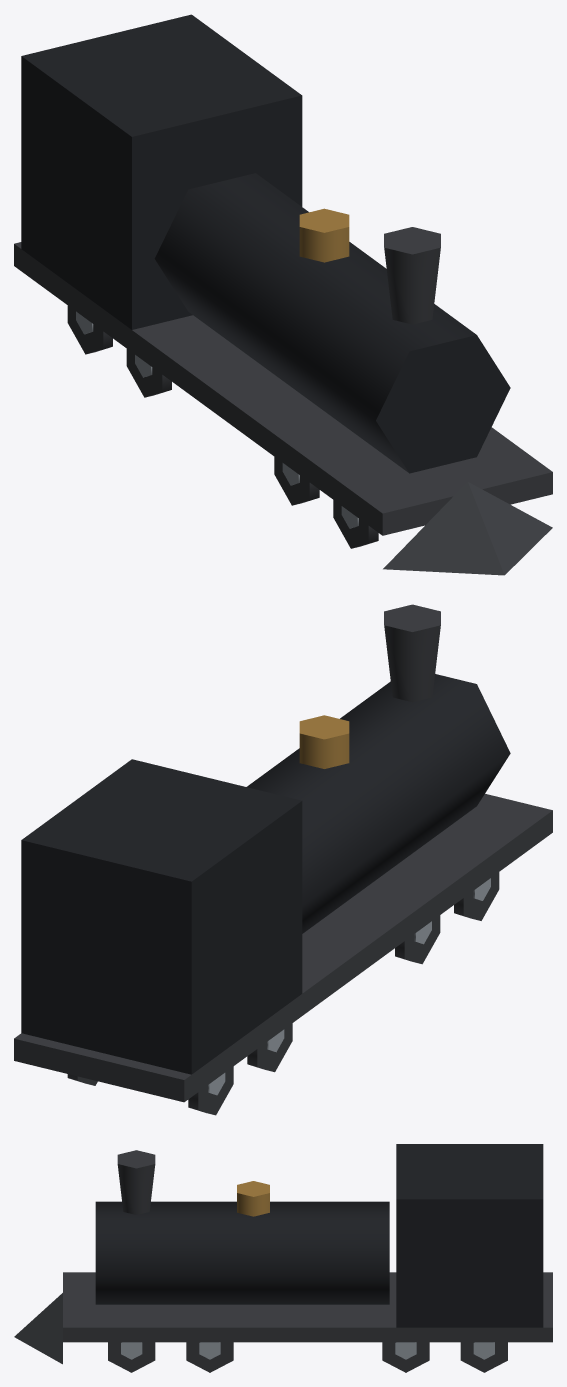
File: veh_ground_locomotive_a05_lod1.glb
The picture shows the model from 3 angles, top to bottom: view 1: azimuth 30°, elevation 25°; view 2: azimuth 150°, elevation 25°; view 3: azimuth 270°, elevation 25°; orthographic projection. The views are drawn at different scales.
Visible parts, largest first — view 1: body, wheel_0, wheel_2, wheel_6, wheel_4; view 2: body, wheel_4, wheel_6, wheel_2, wheel_0; view 3: body, wheel_1, wheel_3, wheel_5, wheel_7.
Boxes of the visible parts, x1=… form: body: x1=14, y1=14, x2=552, y2=575; wheel_0: x1=67, y1=305, x2=112, y2=354; wheel_2: x1=126, y1=349, x2=171, y2=397; wheel_6: x1=333, y1=500, x2=378, y2=548; wheel_4: x1=274, y1=457, x2=319, y2=505; body: x1=14, y1=604, x2=552, y2=1102; wheel_4: x1=395, y1=915, x2=440, y2=964; wheel_6: x1=454, y1=872, x2=499, y2=920; wheel_2: x1=247, y1=1023, x2=292, y2=1072; wheel_0: x1=188, y1=1066, x2=233, y2=1115; body: x1=14, y1=1144, x2=552, y2=1364; wheel_1: x1=460, y1=1342, x2=507, y2=1372; wheel_3: x1=382, y1=1342, x2=429, y2=1372; wheel_5: x1=186, y1=1342, x2=233, y2=1372; wheel_7: x1=108, y1=1342, x2=155, y2=1372.
Size of the model in its own units: 2.4 by 3.9 by 9.9.
